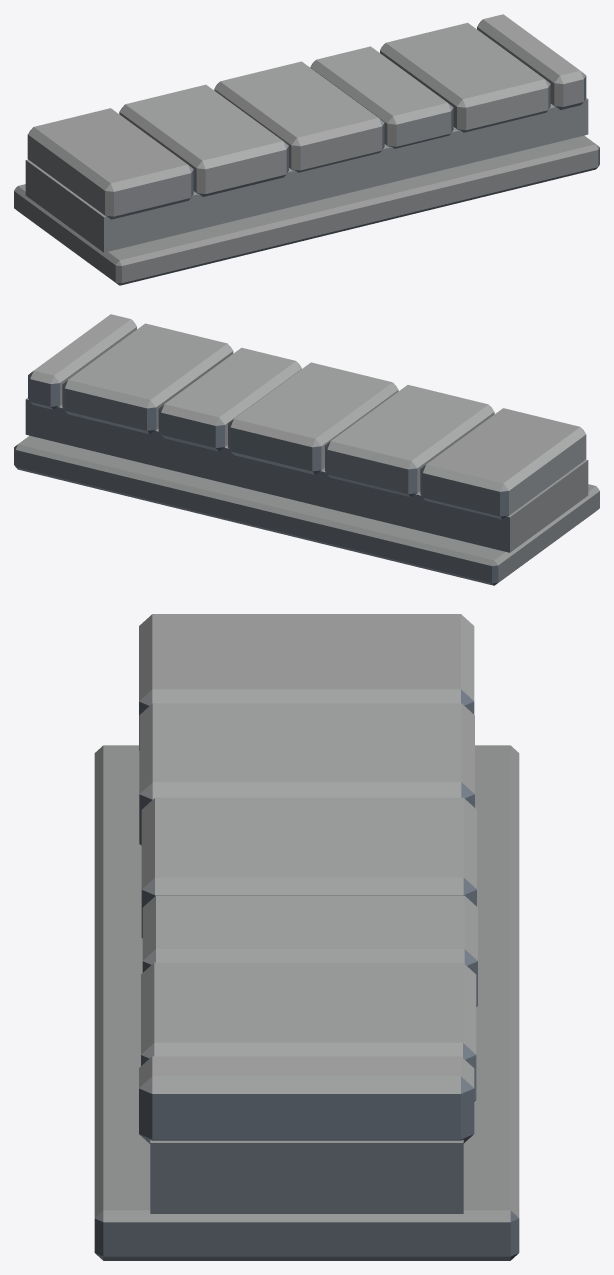
Rendered from wall_low.glb.
3 views of the same model, one above another, from view 1: azimuth 30°, elevation 25°; view 2: azimuth 150°, elevation 25°; view 3: azimuth 270°, elevation 25° (orthographic). The views are drawn at different scales.
Visible parts, largest first — view 1: wall_low; view 2: wall_low; view 3: wall_low.
Boxes of the visible parts, x1,y1,x2,y2 form: wall_low: (14, 14, 599, 285); wall_low: (14, 314, 599, 585); wall_low: (94, 614, 519, 1260).
Bounding box in the file's own units: 10 × 1.83 × 3.8.
